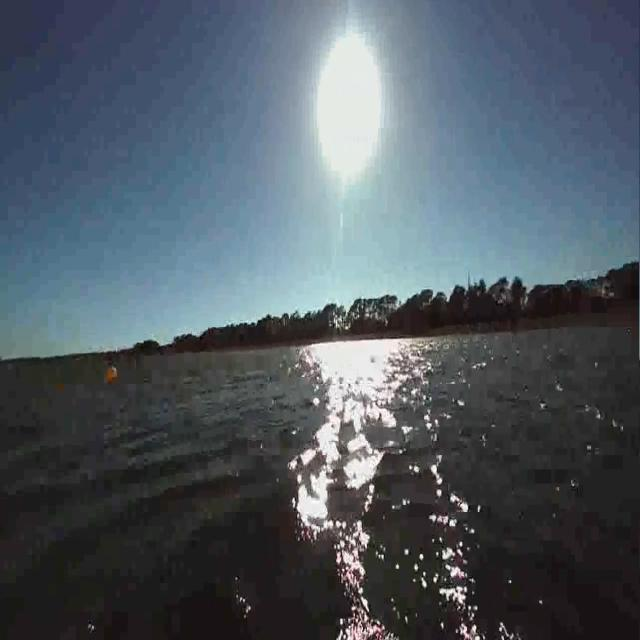red-buoy: (104, 360, 122, 386)
